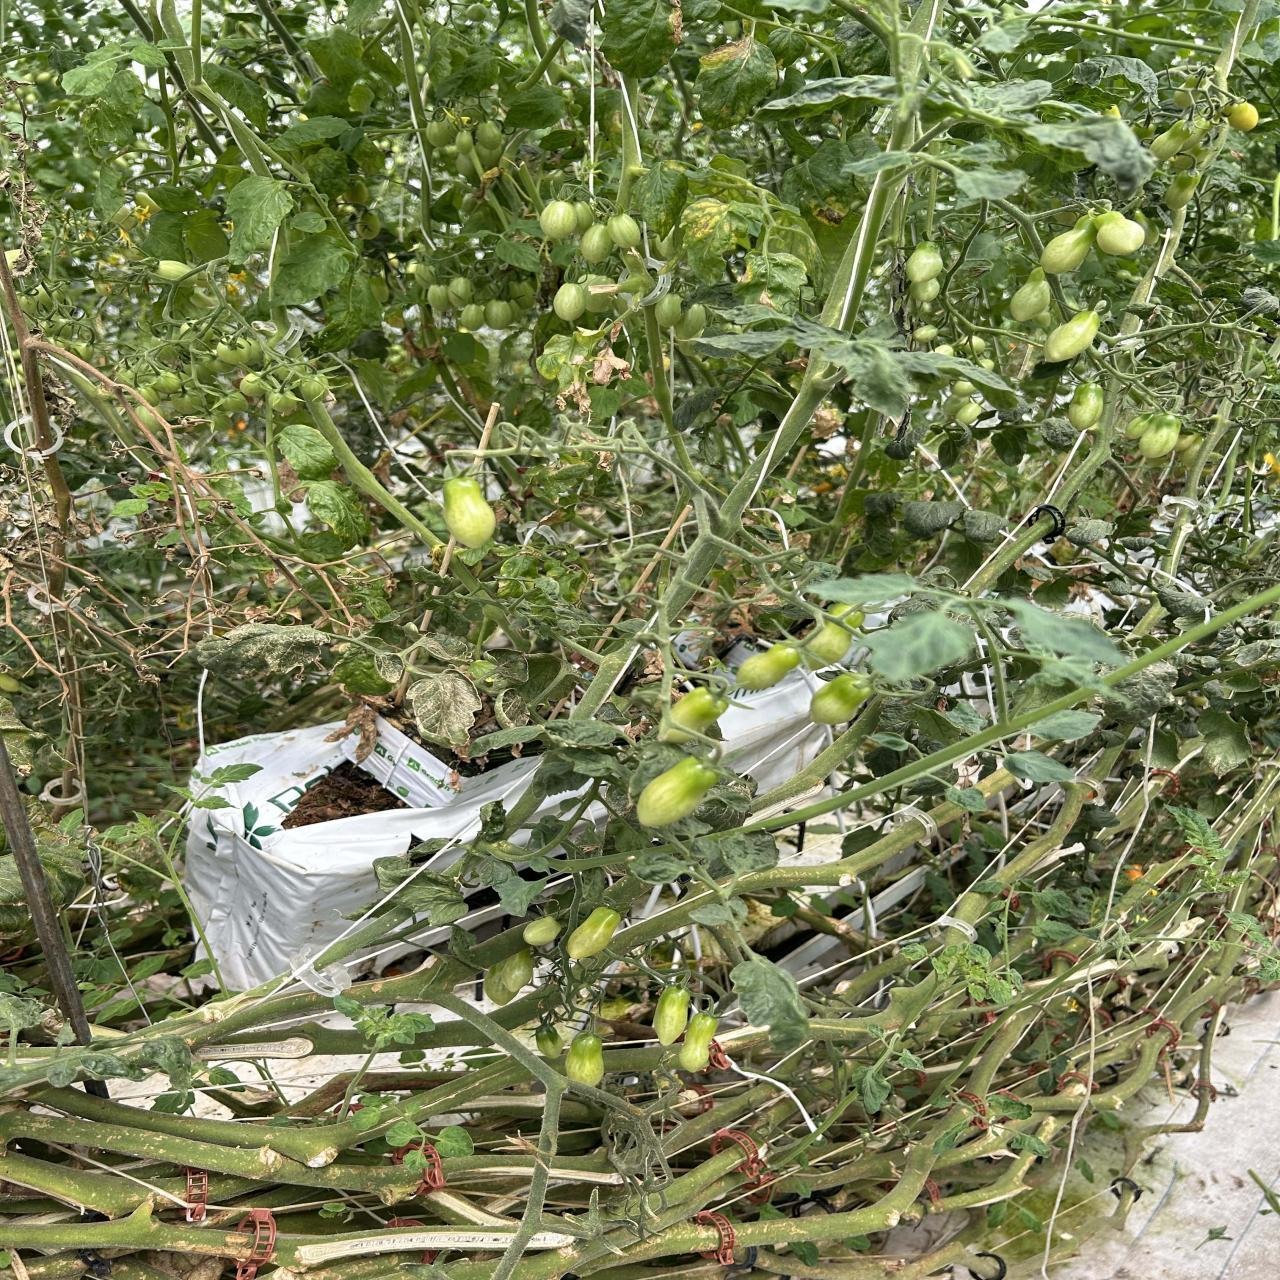Rugose leaf: (695, 21, 778, 128), (195, 624, 329, 681), (730, 956, 808, 1050), (600, 0, 680, 79), (226, 175, 294, 261), (406, 670, 482, 747), (680, 197, 747, 280), (629, 159, 688, 238), (686, 155, 778, 204), (306, 481, 369, 547), (278, 424, 340, 481), (332, 649, 393, 695), (421, 632, 474, 662), (367, 620, 411, 648), (372, 651, 404, 685), (536, 349, 566, 380), (427, 118, 457, 148), (475, 121, 502, 150), (455, 130, 474, 154)
Rugose tomato: (636, 757, 719, 826), (443, 477, 496, 549), (659, 688, 727, 742), (803, 604, 864, 663), (810, 673, 872, 726), (736, 645, 801, 690), (1041, 220, 1094, 275), (1043, 311, 1099, 362), (567, 907, 620, 960), (679, 1012, 717, 1073), (1009, 267, 1051, 321), (1096, 211, 1145, 256), (653, 986, 689, 1046), (565, 1033, 604, 1087), (1139, 415, 1180, 459), (498, 948, 535, 995), (1067, 383, 1103, 430), (1150, 122, 1192, 162), (905, 241, 944, 284), (1173, 70, 1213, 110), (539, 199, 578, 240), (483, 964, 518, 1005), (127, 400, 169, 434), (1164, 173, 1200, 210), (553, 282, 587, 321), (157, 259, 202, 287), (580, 224, 612, 263), (607, 213, 640, 250), (675, 304, 707, 341), (523, 915, 561, 946), (1225, 100, 1259, 131), (535, 1026, 563, 1061), (586, 282, 618, 312), (655, 293, 682, 327), (484, 300, 513, 328), (910, 279, 940, 305), (150, 370, 182, 395), (573, 200, 595, 234), (171, 393, 205, 415), (1124, 415, 1153, 441), (299, 376, 328, 402), (449, 277, 474, 307), (267, 393, 300, 415), (238, 372, 265, 397), (458, 304, 483, 331), (427, 285, 450, 312), (219, 392, 248, 413), (911, 325, 939, 343), (138, 386, 161, 406), (211, 410, 229, 429), (588, 277, 607, 279)
